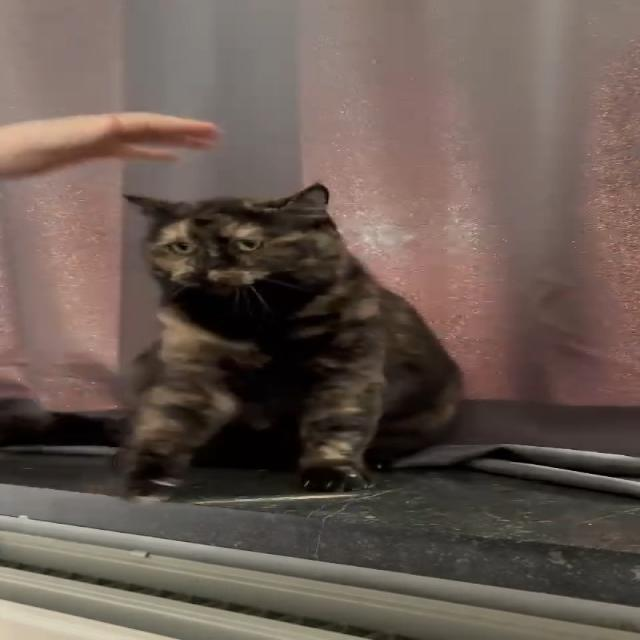authorized: (115, 182, 465, 497)
